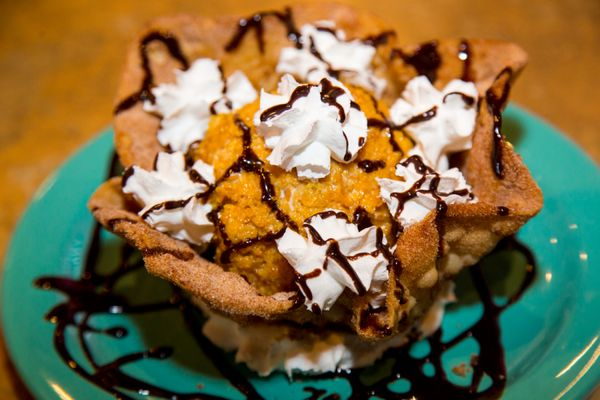sushi: (88, 5, 547, 380)
